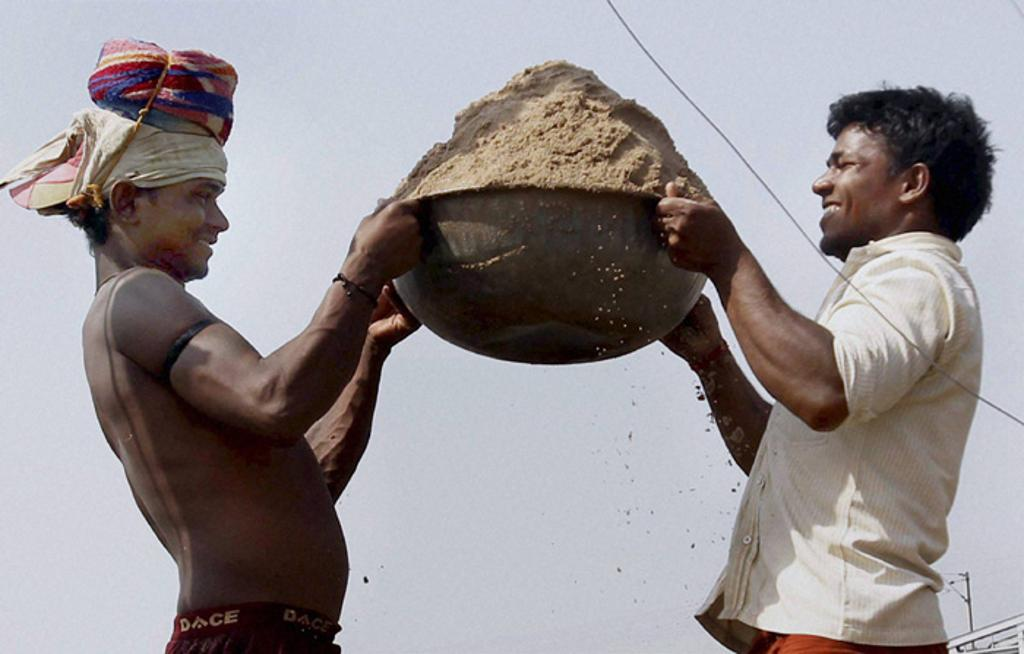face: (818, 100, 930, 236), (128, 132, 230, 274)
